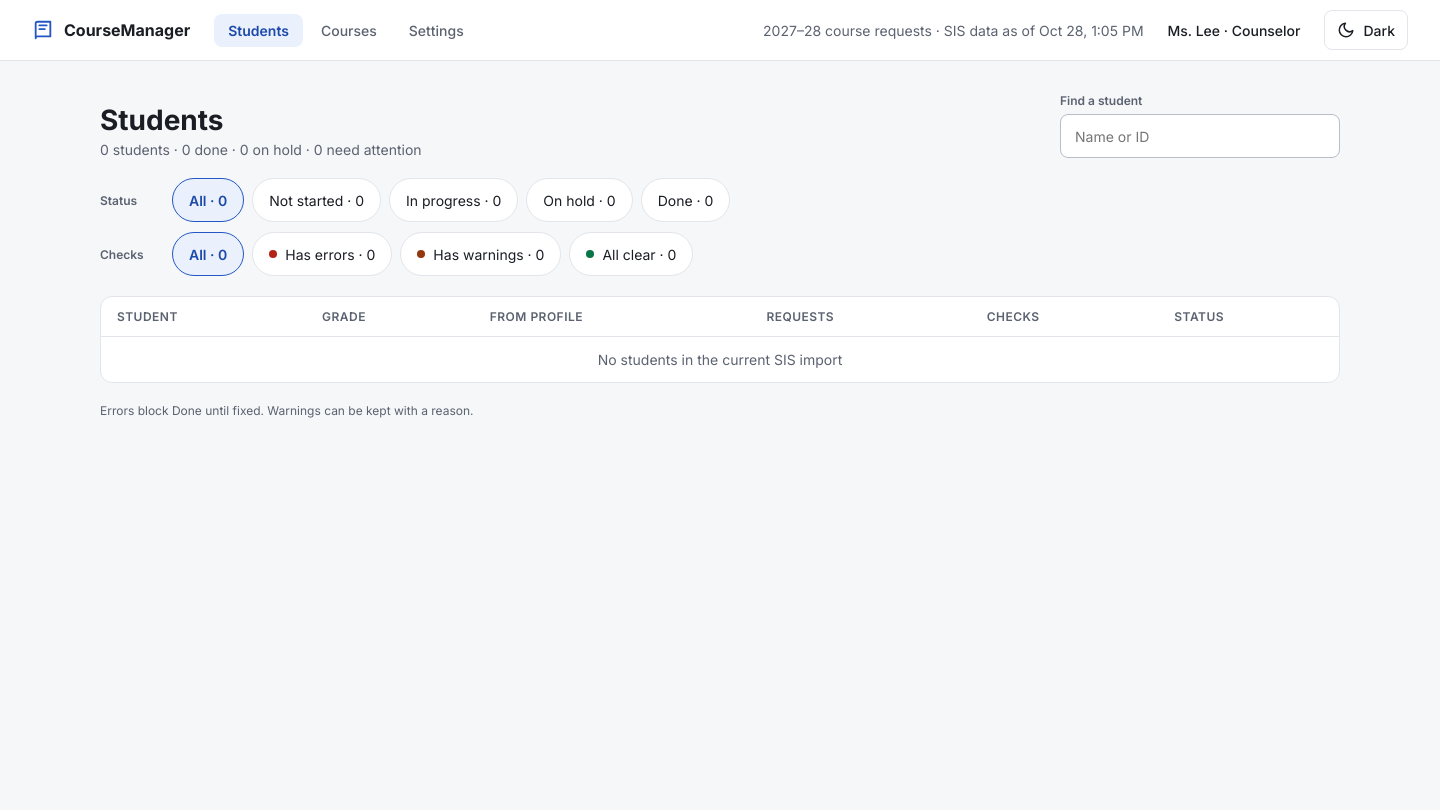
the toggle switches the theme and remembers it
Click the button with aria-label "Switch to dark mode" at (1366, 30), box x1=1324 y1=10 x2=1408 y2=50
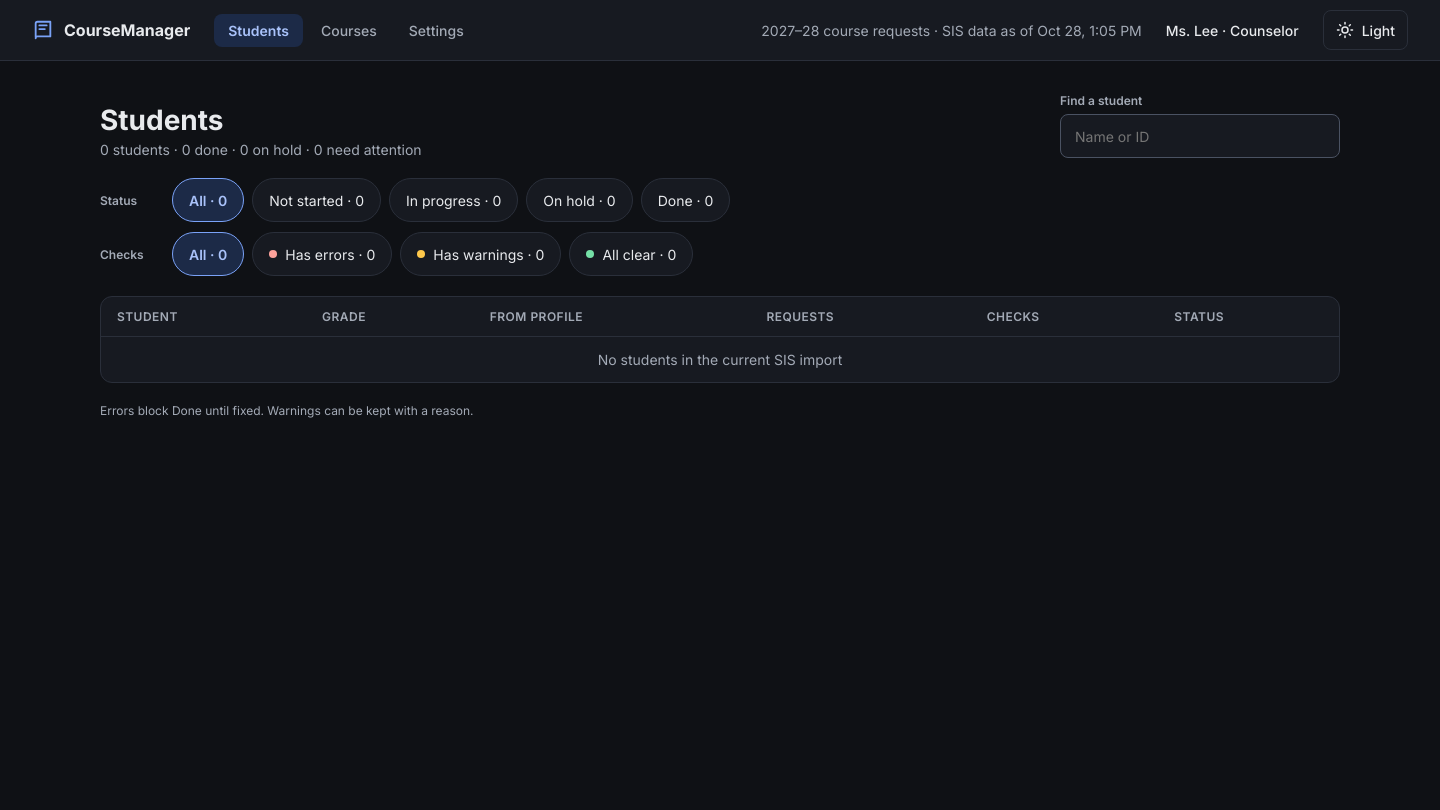
Result: the button with aria-label "Switch to light mode" is shown at x1=1323 y1=10 x2=1408 y2=50
